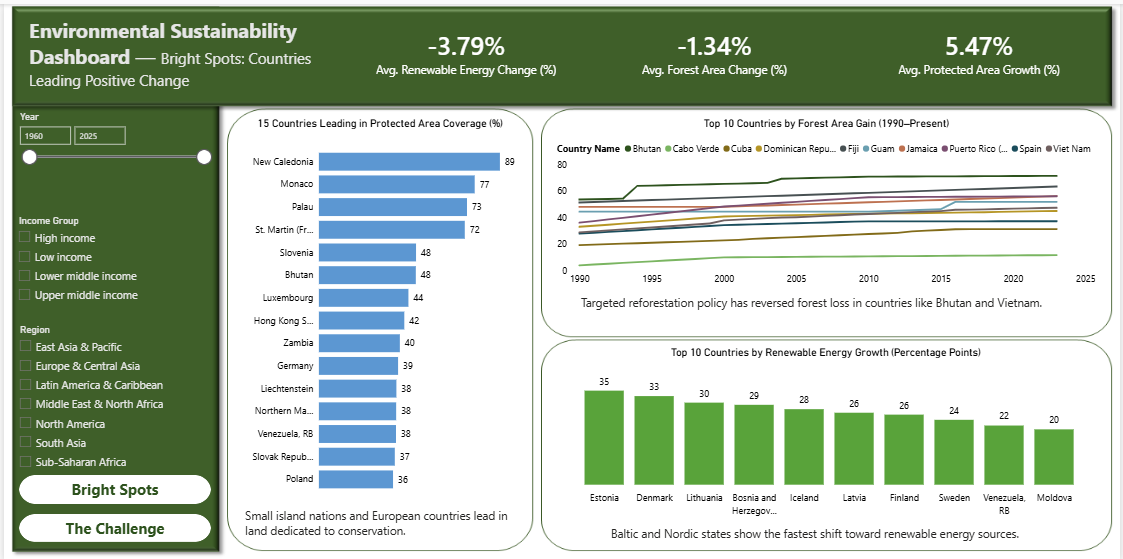

This screenshot's page, from the dashboard's own definition file:
{"tool":"powerbi","page":{"name":"Bright Spots","canvas":[1800,900],"ordinal":1},"visuals":[{"type":"cardVisual","fields":{"Data":["WDICSV.Avg Renewable Growth"]},"box":[568.8,15.1,353,127.1],"z":0},{"type":"cardVisual","fields":{"Data":["WDICSV.Avg Forest Growth"]},"box":[941.8,15.1,408.2,127.1],"z":1000},{"type":"cardVisual","fields":{"Data":["WDICSV.Avg Protected Growth"]},"box":[1368,14.7,410.7,127.6],"z":2000},{"type":"lineChart","title":"Top 10 Countries by Forest Area Gain (1990–Present)","fields":{"Category":["WDICSV.Year"],"Series":["WDICSV.Country Name"],"Y":["Avg(WDICSV.Value)"]},"box":[886.6,182.3,878.3,281],"z":3000},{"type":"clusteredBarChart","title":"15 Countries Leading in Protected Area Coverage (%)","fields":{"Category":["WDICSV.Country Name"],"Y":["Avg(WDICSV.Value)"]},"box":[383.1,182.3,445,619],"z":4000},{"type":"clusteredColumnChart","title":"Top 10 Countries by Renewable Energy Growth (Percentage Points)","fields":{"Category":["WDICSV.Country Name"],"Y":["WDICSV.Renewable Change"]},"box":[886.6,552,876.6,282.7],"z":5000},{"type":"slicer","fields":{"Values":["WDICSV.Region"]},"box":[13.4,511.9,332.9,247.6],"z":6000},{"type":"slicer","fields":{"Values":["WDICSV.Year"]},"box":[13.4,167.3,331.2,155.6],"z":7000},{"type":"slicer","fields":{"Values":["WDICSV.Income Group"]},"box":[11.7,336.2,332.9,155.6],"z":8000},{"type":"textbox","box":[35.1,15.1,518.6,140.5],"z":9000},{"type":"textbox","box":[383.9,806.5,445.2,61.3],"z":10000},{"type":"textbox","box":[900,462.9,840.3,48.4],"z":11000},{"type":"textbox","box":[922.6,835.5,817.7,45.2],"z":12000},{"type":"actionButton","box":[24.2,759.7,309.7,46.8],"z":13000},{"type":"actionButton","box":[24.2,822.6,309.7,45.2],"z":14000}]}

Visuals, with their boxes in screenshot pixels (x1, y1, x2, y2), scaled from the page's 1800x900 canvas onto the 1123x559 screenshot:
cardVisual - WDICSV.Avg Renewable Growth: 355, 9, 575, 88
cardVisual - WDICSV.Avg Forest Growth: 588, 9, 842, 88
cardVisual - WDICSV.Avg Protected Growth: 853, 9, 1110, 88
"Top 10 Countries by Forest Area Gain (1990–Present)" lineChart: 553, 113, 1101, 288
"15 Countries Leading in Protected Area Coverage (%)" clusteredBarChart: 239, 113, 517, 498
"Top 10 Countries by Renewable Energy Growth (Percentage Points)" clusteredColumnChart: 553, 343, 1100, 518
slicer - WDICSV.Region: 8, 318, 216, 472
slicer - WDICSV.Year: 8, 104, 215, 201
slicer - WDICSV.Income Group: 7, 209, 215, 305
textbox: 22, 9, 345, 97
textbox: 240, 501, 517, 539
textbox: 562, 288, 1086, 318
textbox: 576, 519, 1086, 547
actionButton: 15, 472, 208, 501
actionButton: 15, 511, 208, 539
